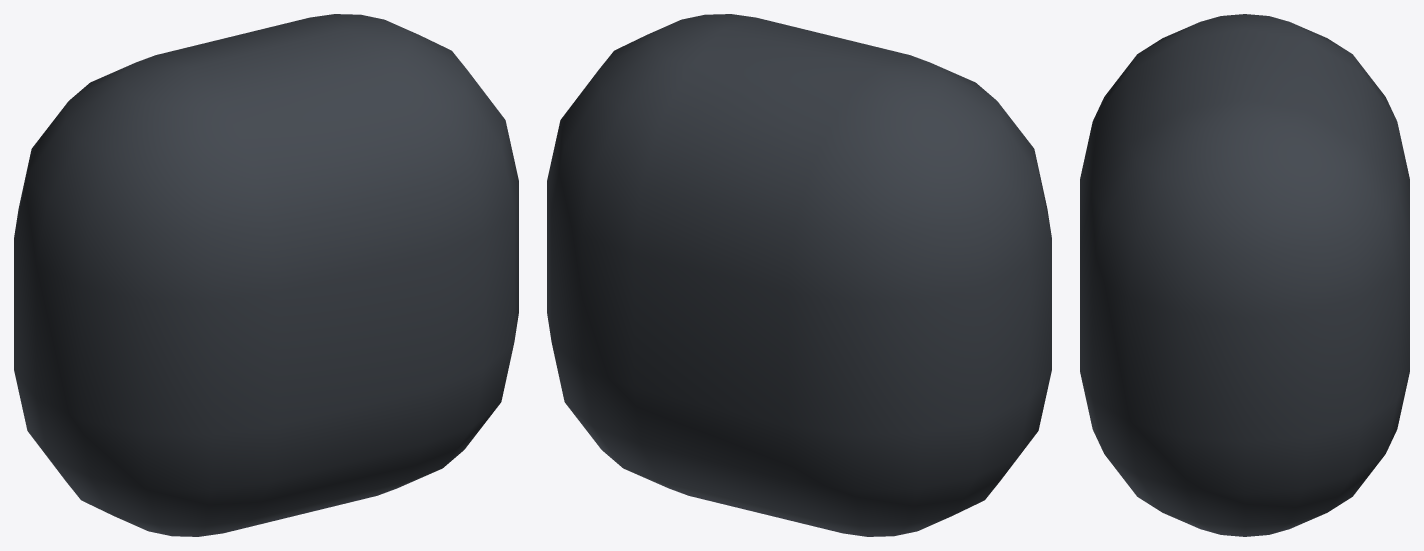
The model's file is mount.dae.
The picture shows the model from 3 angles, left to right: view 1: azimuth 30°, elevation 25°; view 2: azimuth 150°, elevation 25°; view 3: azimuth 270°, elevation 25°; orthographic projection. The views are drawn at different scales.
Visible parts, largest first — view 1: Sphere0061; view 2: Sphere0061; view 3: Sphere0061.
Boxes of the visible parts, x1,y1,x2,y2 form: Sphere0061: (14, 14, 518, 536); Sphere0061: (547, 14, 1051, 536); Sphere0061: (1080, 14, 1409, 536).
Bounding box in the file's own units: 7.89 × 5.25 × 7.42.
Materials: 1 (1 with a texture image).
